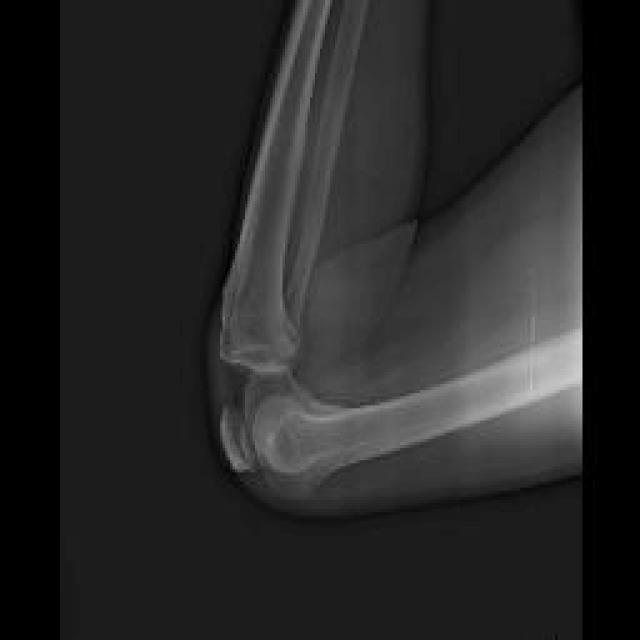normal: (220, 2, 580, 487)
